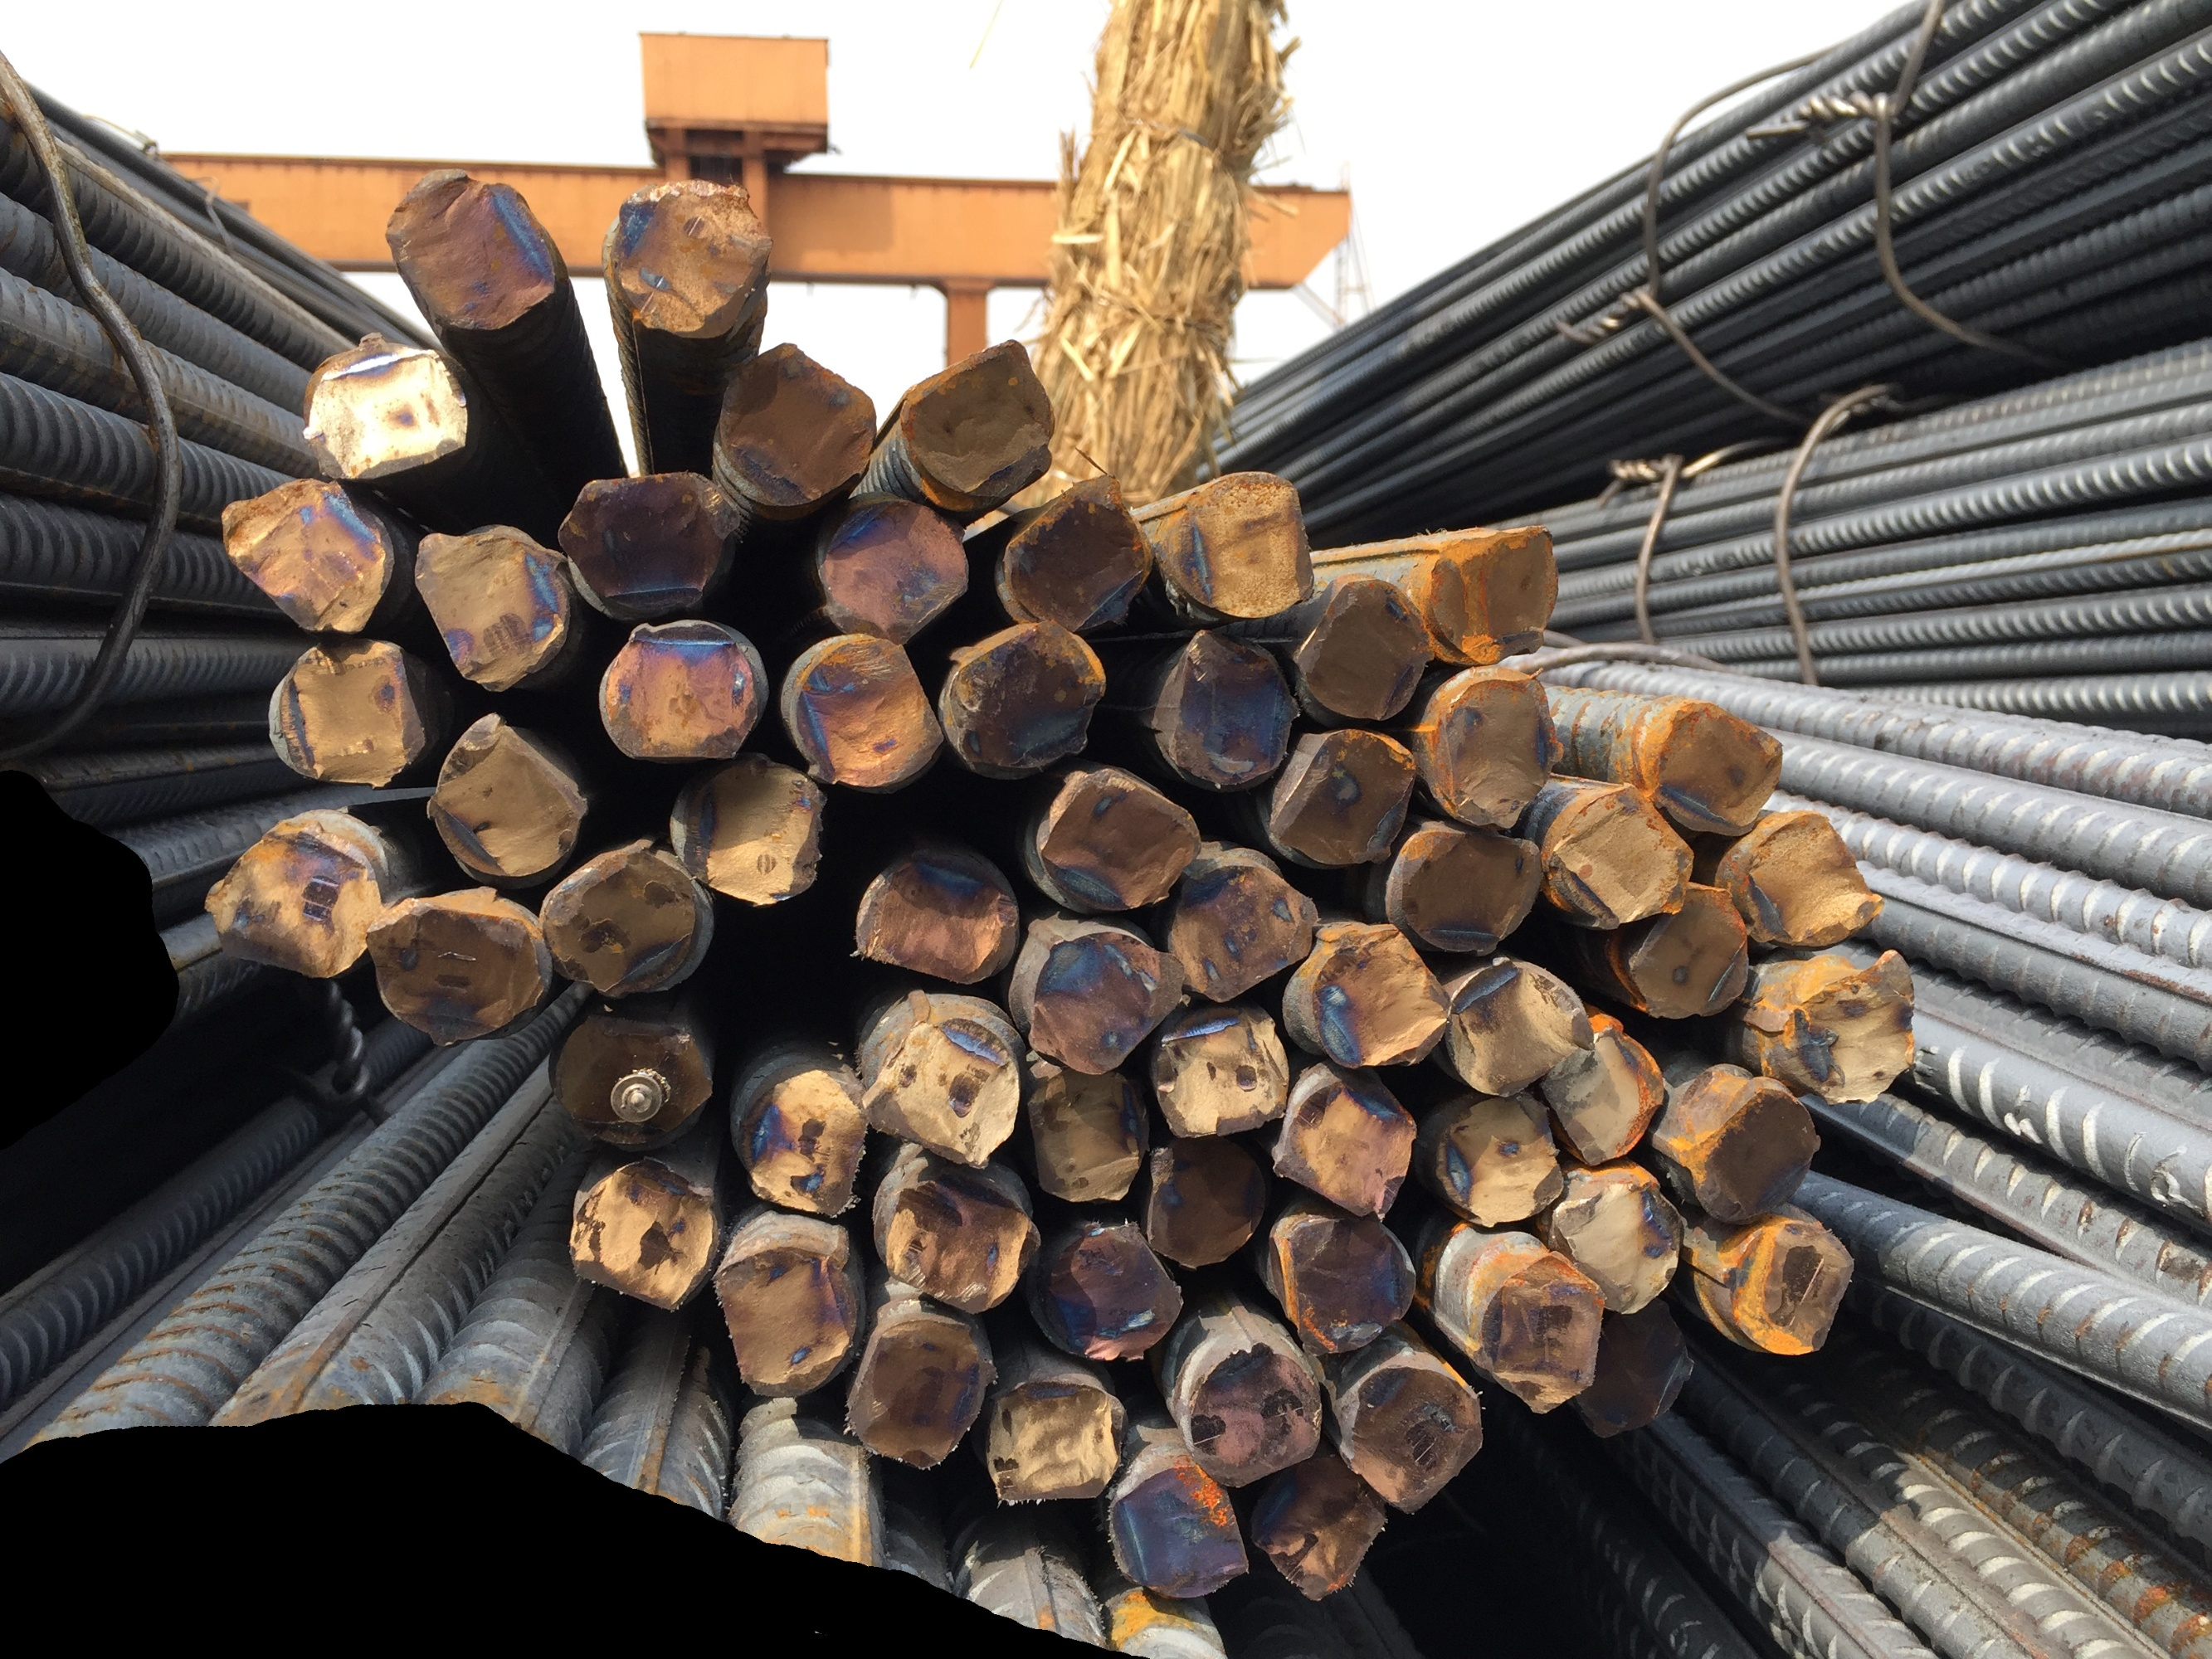rebar: (378, 164, 567, 336), (418, 704, 593, 884), (709, 335, 884, 512), (603, 173, 783, 345), (214, 472, 399, 640), (199, 824, 390, 985), (403, 521, 575, 695), (891, 333, 1065, 505), (554, 464, 739, 626), (530, 840, 709, 1006), (357, 897, 547, 1053), (293, 328, 476, 486), (1755, 941, 1926, 1110), (941, 612, 1109, 784), (1145, 620, 1309, 795), (265, 627, 436, 793), (992, 469, 1157, 640), (783, 627, 950, 795), (1152, 464, 1323, 626), (1028, 763, 1206, 917), (1018, 925, 1192, 1080), (593, 617, 772, 767), (563, 1150, 725, 1316), (840, 1310, 1002, 1476), (863, 1014, 1030, 1175), (1415, 666, 1574, 835), (807, 493, 980, 648), (706, 1237, 866, 1403), (544, 1009, 723, 1155), (1539, 774, 1703, 934), (1525, 1162, 1693, 1319), (844, 847, 1028, 988), (669, 748, 828, 911), (1435, 950, 1604, 1103), (1337, 1358, 1492, 1521), (875, 1169, 1048, 1316), (732, 1054, 879, 1223), (1471, 1248, 1612, 1422), (1285, 570, 1440, 728), (1264, 1073, 1426, 1225), (1246, 1445, 1398, 1605), (1178, 1337, 1330, 1495), (1035, 1215, 1191, 1368), (1166, 859, 1327, 1007), (1274, 1206, 1424, 1363), (1306, 918, 1455, 1073), (1102, 1455, 1257, 1603), (1602, 882, 1759, 1028), (1736, 807, 1890, 955), (1138, 1002, 1297, 1145), (1682, 1080, 1830, 1232), (971, 1371, 1133, 1509), (1428, 1084, 1576, 1234), (1422, 519, 1569, 671), (1018, 1060, 1157, 1218), (1389, 823, 1551, 958), (1644, 694, 1794, 840), (1557, 1295, 1703, 1443), (1529, 1019, 1670, 1171), (1135, 1126, 1276, 1274), (1726, 1215, 1862, 1363), (1272, 728, 1417, 866)
